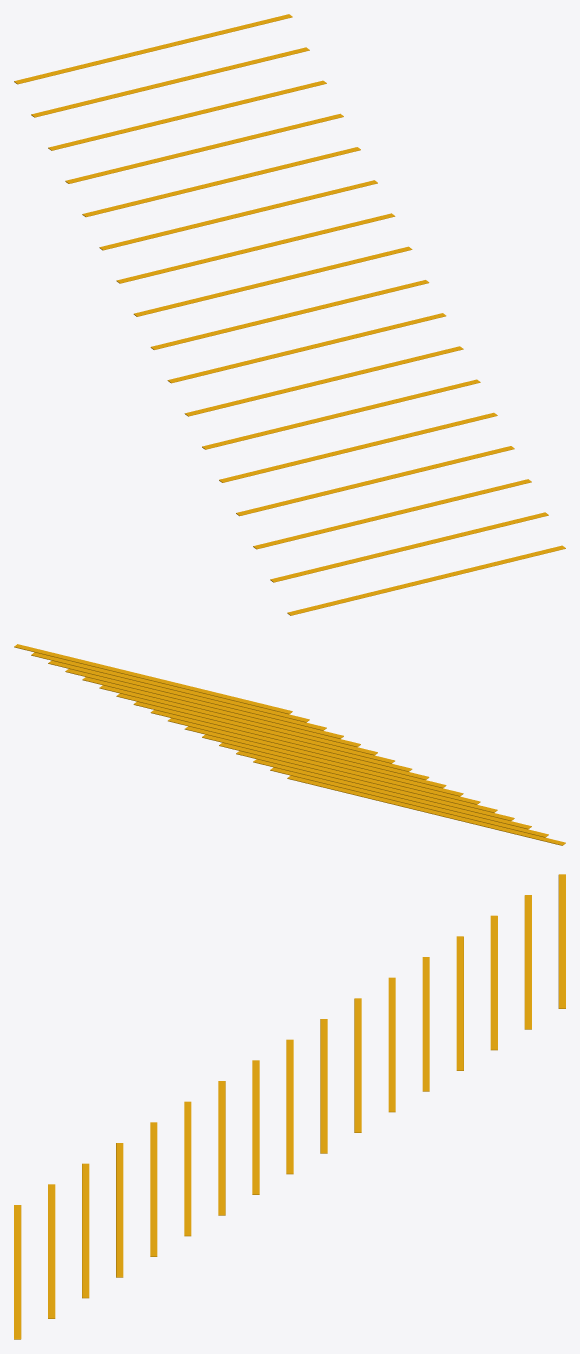
The model's file is gteki_ik_stair_n17_r174_t260_w2436_nosing.glb.
3 views of the same model, one above another, from view 1: azimuth 30°, elevation 25°; view 2: azimuth 150°, elevation 25°; view 3: azimuth 270°, elevation 25° (orthographic).
Parts seen in each view (by area): view 1: VIS_nosings; view 2: VIS_nosings; view 3: VIS_nosings.
Boxes of the visible parts, bbox=[...] form: VIS_nosings: bbox=[14, 14, 565, 615]; VIS_nosings: bbox=[14, 644, 565, 845]; VIS_nosings: bbox=[14, 874, 565, 1339].
Size of the model in its own units: 2.42 by 2.79 by 4.21.
